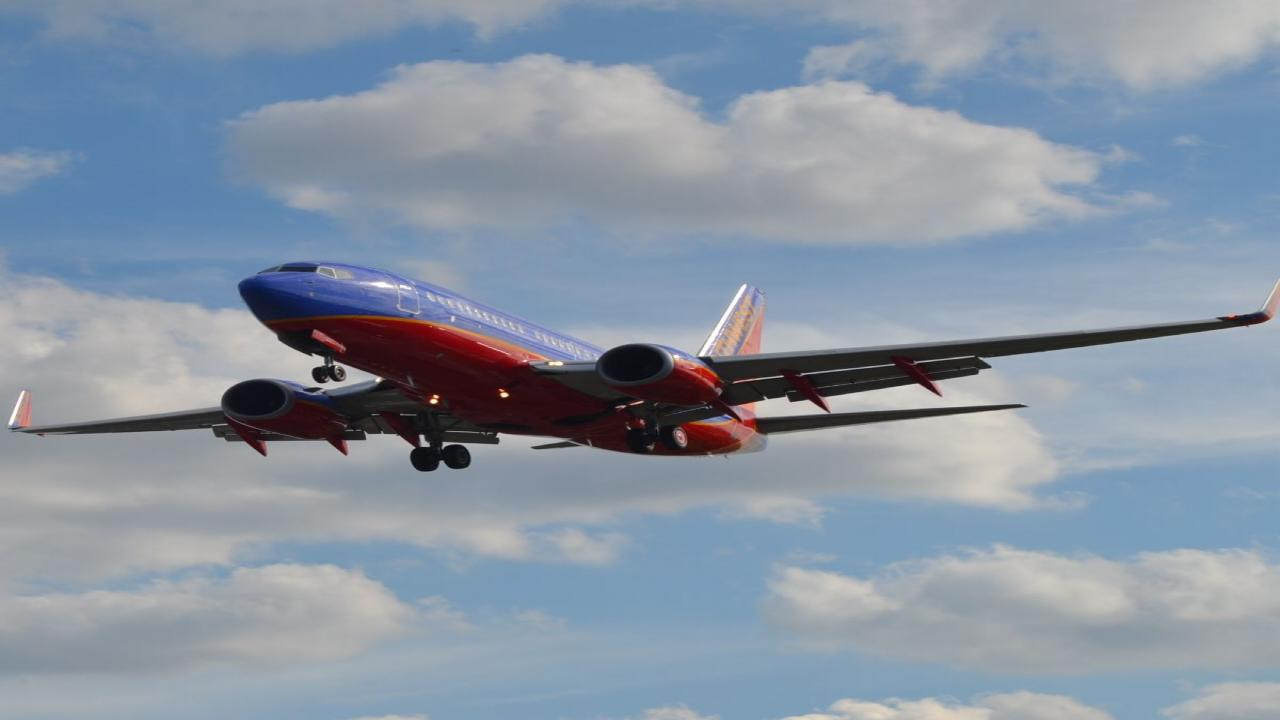Airplane: (0, 251, 1280, 480)
